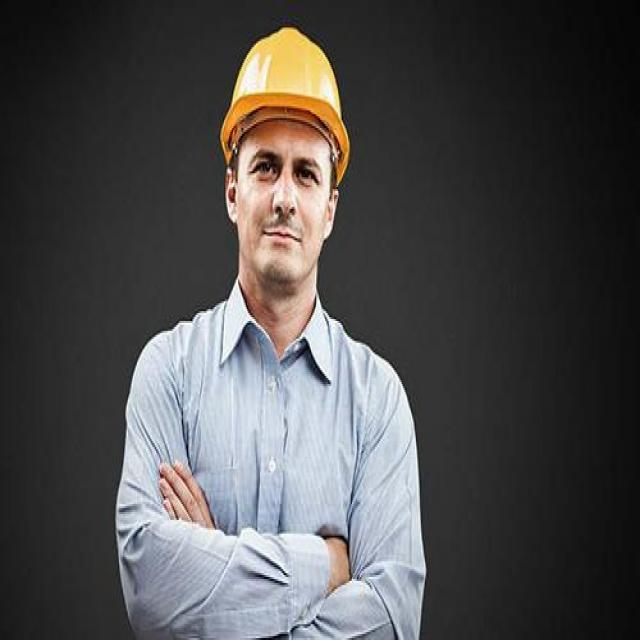Helmet: (211, 23, 353, 292)
NoVest: (126, 310, 421, 639)
